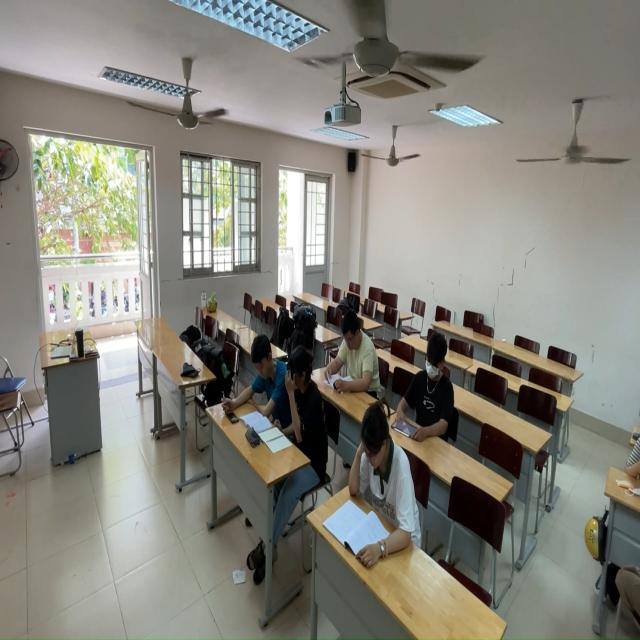read: (344, 406, 427, 567), (256, 343, 332, 478), (225, 332, 290, 445), (398, 332, 460, 446), (320, 309, 386, 396)
